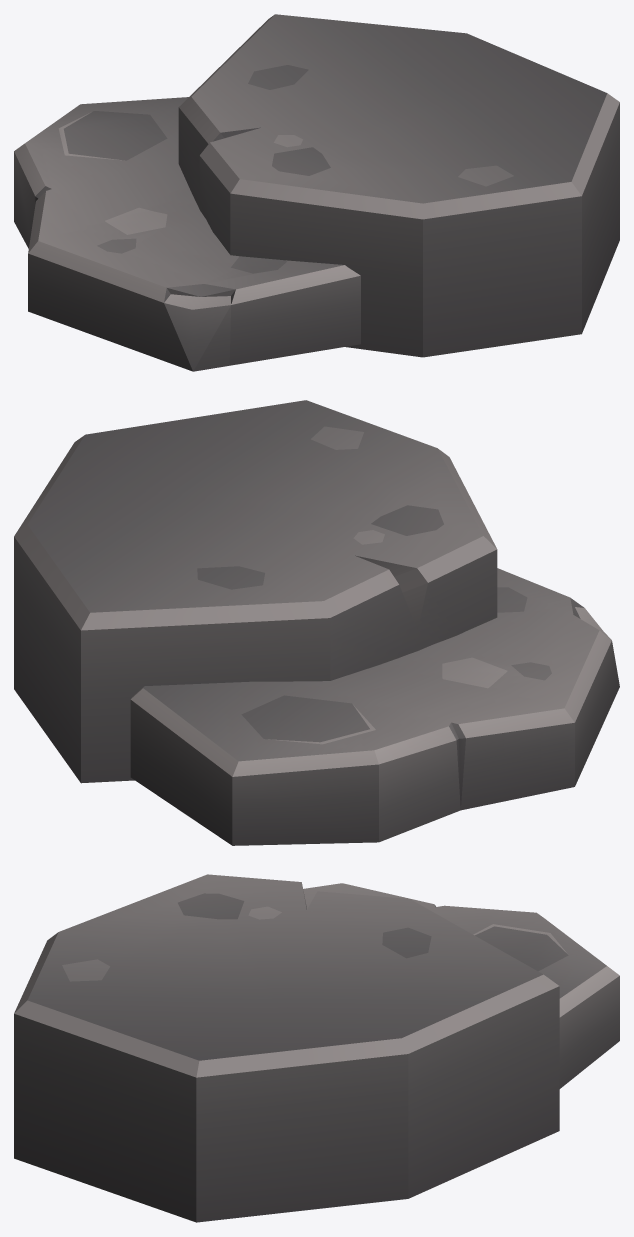
3 renders of one model, top to bottom at view 1: azimuth 30°, elevation 25°; view 2: azimuth 150°, elevation 25°; view 3: azimuth 270°, elevation 25°, orthographic. The views are drawn at different scales.
Visible parts, largest first — view 1: Rocks.002, Rocks; view 2: Rocks.002, Rocks; view 3: Rocks.002, Rocks.
Part boxes in pixels (x1,y1,x2,y2): Rocks.002: (178, 14, 619, 357); Rocks: (14, 97, 360, 371); Rocks.002: (14, 400, 497, 783); Rocks: (130, 568, 619, 845); Rocks.002: (14, 874, 559, 1222); Rocks: (303, 883, 619, 1088).
Bounding box in the file's own units: 57.87 × 15.75 × 55.41.
